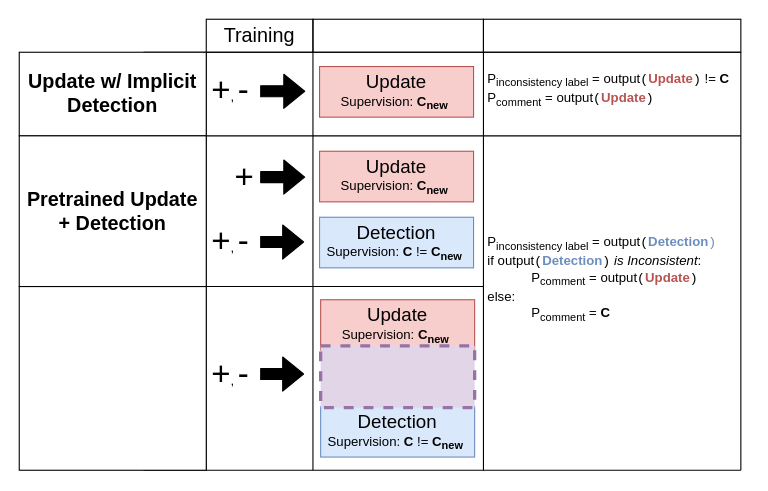
This 768x491 diagram has some shape labels left out. Here are the shapes that lost their labels. From the top down, the centre of each, then its label:
At (397,35): "Architecture".
At (611,35): "Inference".
At (112,377): "Jointly Trained Update + Detection".
At (397,376): "Shared: Embeddings, C encoder, M edit encoder".
